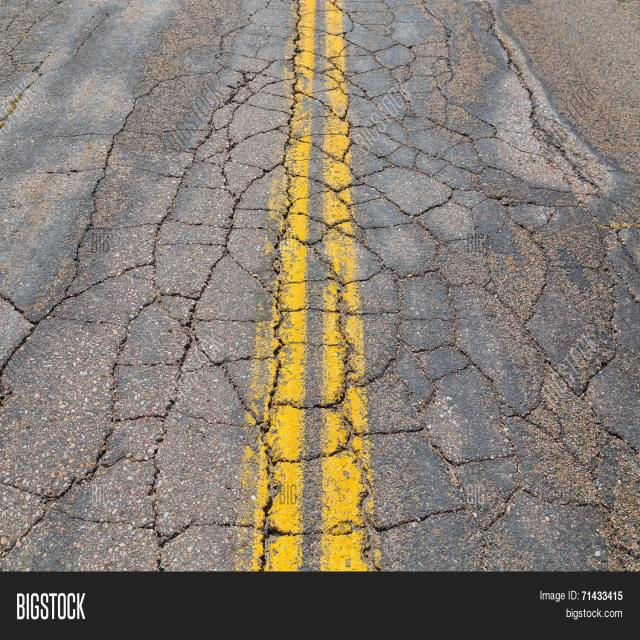Drain Hole: (166, 22, 509, 491)
